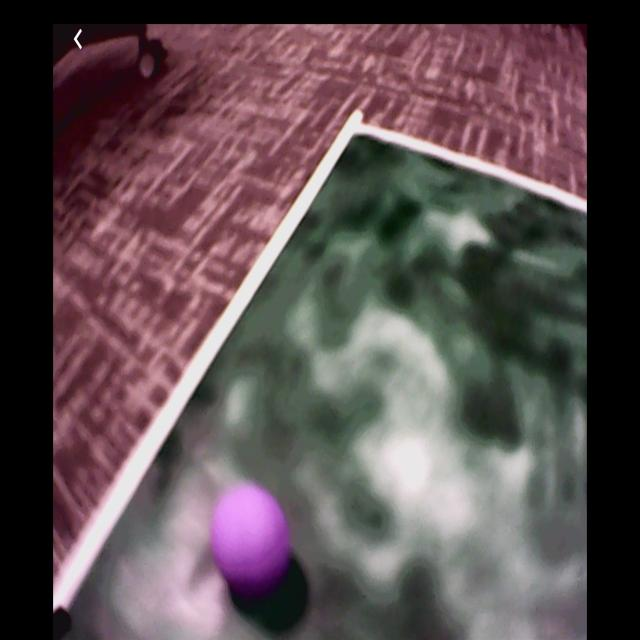ball: (212, 486, 291, 589)
